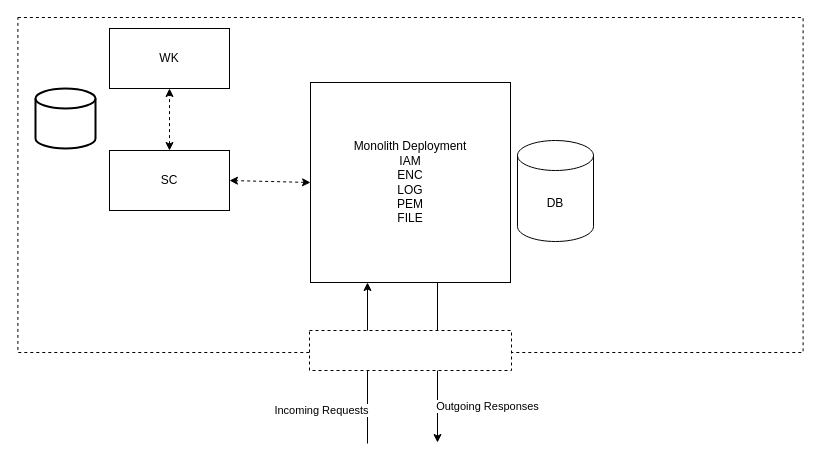
The diagram is 821 pixels wide and 469 high, and some of its shapes have lost their labels. Each missing label, with the centre of its shape:
Optional Gateway: (410,350)
SC + WC DB: (65,118)
